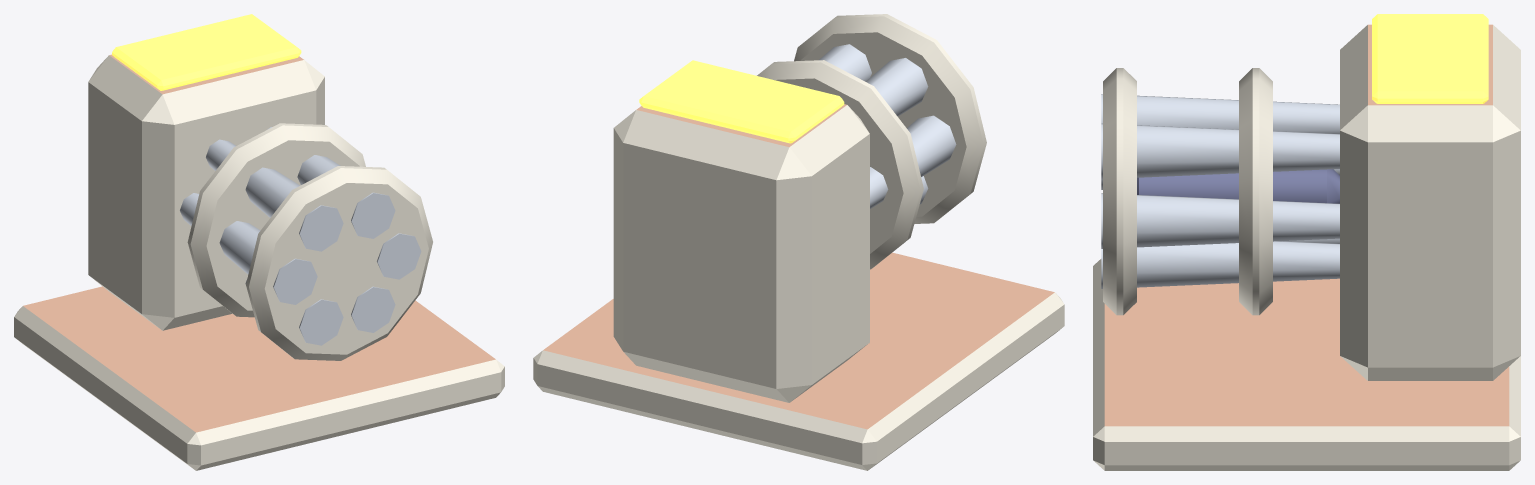
The model's file is R4X_RapidFire_LOD1.fbx.
The picture shows the model from 3 angles, left to right: view 1: azimuth 30°, elevation 25°; view 2: azimuth 150°, elevation 25°; view 3: azimuth 270°, elevation 25°; orthographic projection. The views are drawn at different scales.
Visible parts, largest first — view 1: R4X_RapidFire_LOD1; view 2: R4X_RapidFire_LOD1; view 3: R4X_RapidFire_LOD1.
Part boxes in pixels (x1=…): R4X_RapidFire_LOD1: x1=14, y1=14, x2=504, y2=470; R4X_RapidFire_LOD1: x1=533, y1=14, x2=1064, y2=470; R4X_RapidFire_LOD1: x1=1093, y1=14, x2=1520, y2=470.
Bounding box in the file's own units: 0.52 × 0.4464 × 0.52.
